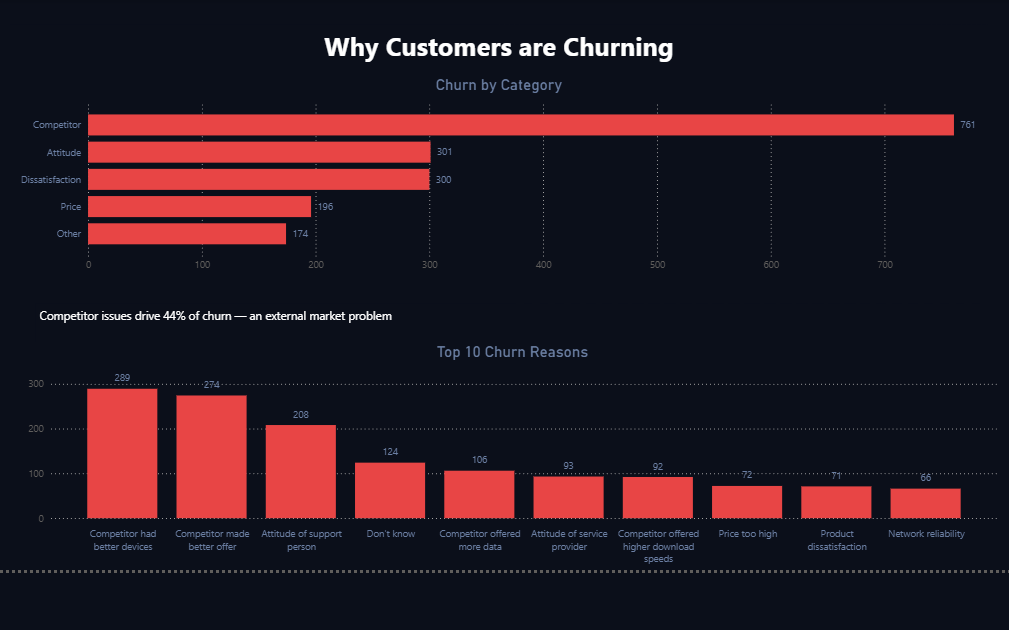

What the dashboard file says about the page in this screenshot:
{"tool":"powerbi","page":{"name":"Why customers are churning","canvas":[1280,720],"ordinal":2},"visuals":[{"type":"textbox","box":[16,32,1232,64],"z":0},{"type":"barChart","title":"Churn by Category","fields":{"Category":["customer_data.Churn_Category"],"Y":["CountNonNull(customer_data.Customer_ID)"]},"box":[16,96,1232,256],"z":1000},{"type":"columnChart","title":"Top 10 Churn Reasons","fields":{"Category":["customer_data.Churn_Reason"],"Y":["CountNonNull(customer_data.Customer_ID)"]},"box":[32,432,1232,288],"z":2000},{"type":"textbox","box":[48,384,1200,48],"z":3000}]}

Visuals, with their boxes on the page's 1280x720 design canvas (x1, y1, x2, y2). These are canvas units, not pixel positions in the 1009x630 screenshot, which may show the page scaled, cropped or inside an application window:
textbox: (left=16, top=32, right=1248, bottom=96)
"Churn by Category" barChart: (left=16, top=96, right=1248, bottom=352)
"Top 10 Churn Reasons" columnChart: (left=32, top=432, right=1264, bottom=720)
textbox: (left=48, top=384, right=1248, bottom=432)
